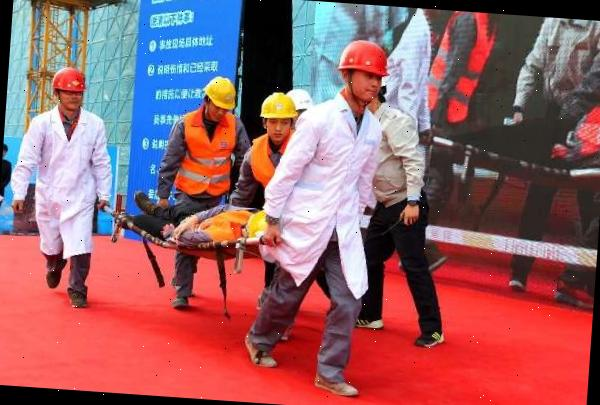helmet: (334, 36, 394, 78), (258, 90, 302, 122), (204, 74, 240, 110), (50, 65, 92, 95)
no_wear: (294, 110, 373, 236), (29, 113, 107, 208)
wear: (168, 109, 241, 199), (238, 133, 284, 204)
